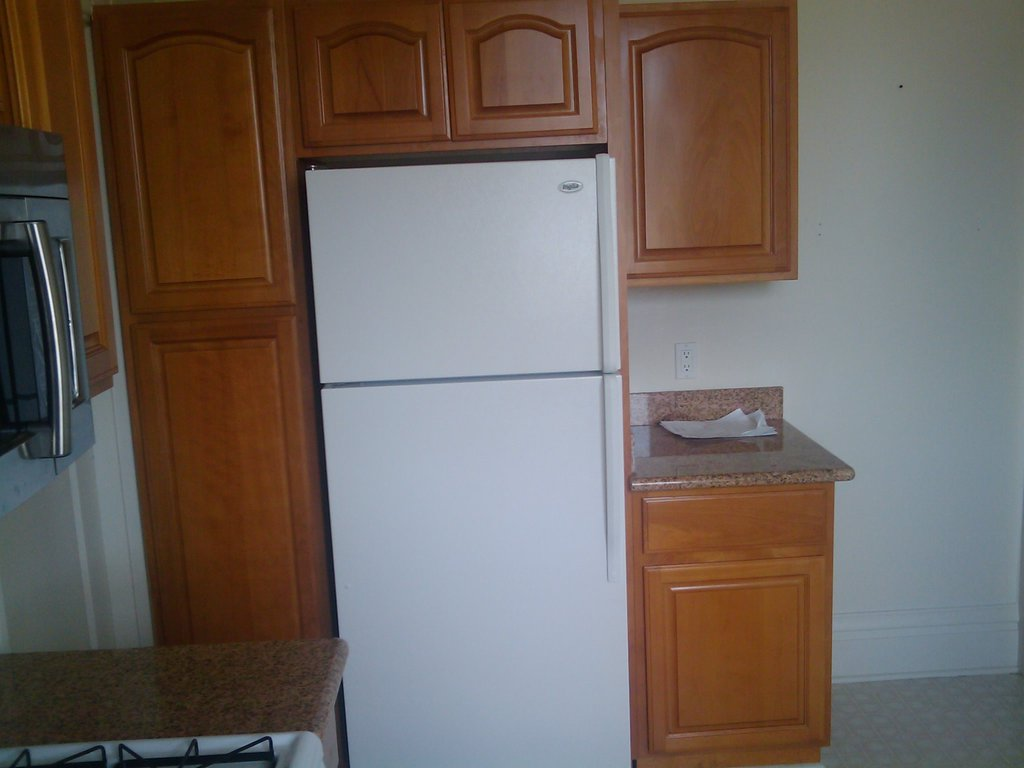cabinet door: (146, 327, 317, 639), (118, 25, 278, 294), (622, 19, 788, 261), (648, 563, 824, 740), (456, 15, 596, 143), (297, 26, 450, 141)
handle: (20, 219, 75, 452), (586, 160, 627, 372), (596, 371, 623, 572)
refrigerator door: (330, 388, 622, 768), (318, 172, 616, 380)
